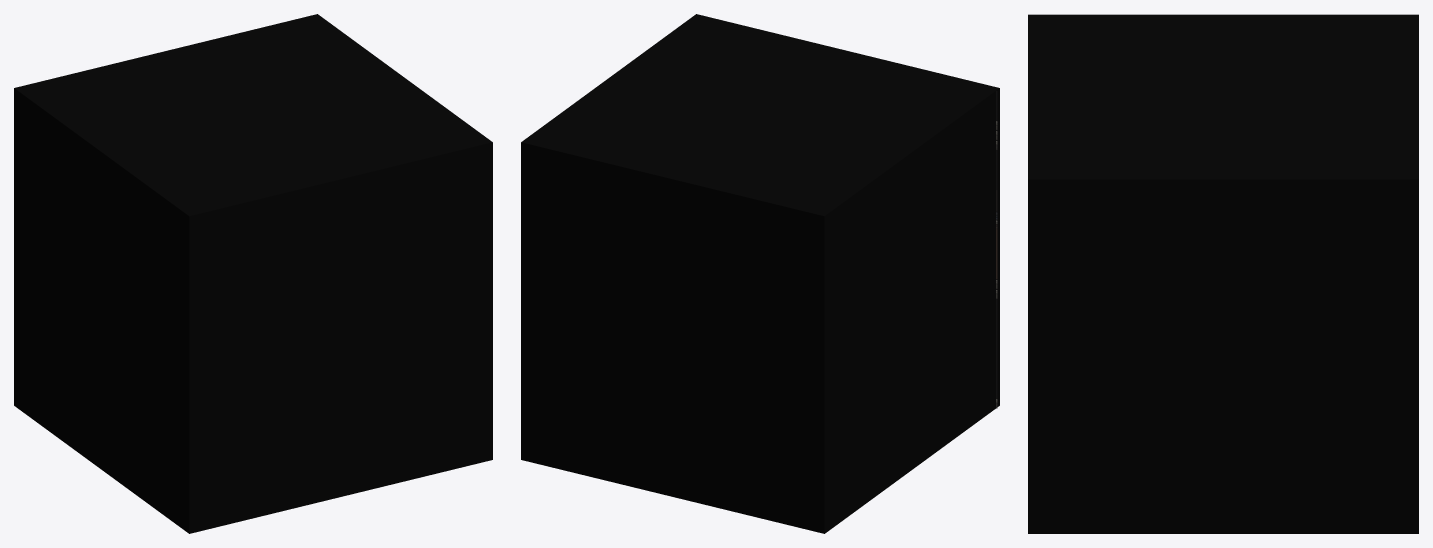
The model's file is Fence_Single.glb.
The picture shows the model from 3 angles, left to right: view 1: azimuth 30°, elevation 25°; view 2: azimuth 150°, elevation 25°; view 3: azimuth 270°, elevation 25°; orthographic projection. The views are drawn at different scales.
Visible parts, largest first — view 1: GameObject; view 2: GameObject, Fence_Single; view 3: GameObject.
Part boxes in pixels (x1,y1,x2,y2): GameObject: (14,14,492,533); GameObject: (521,14,999,533); Fence_Single: (996,91,997,408); GameObject: (1028,14,1418,533).
Bounding box in the file's own units: 1 × 1 × 1.
Materials: 2 (2 with a texture image).
